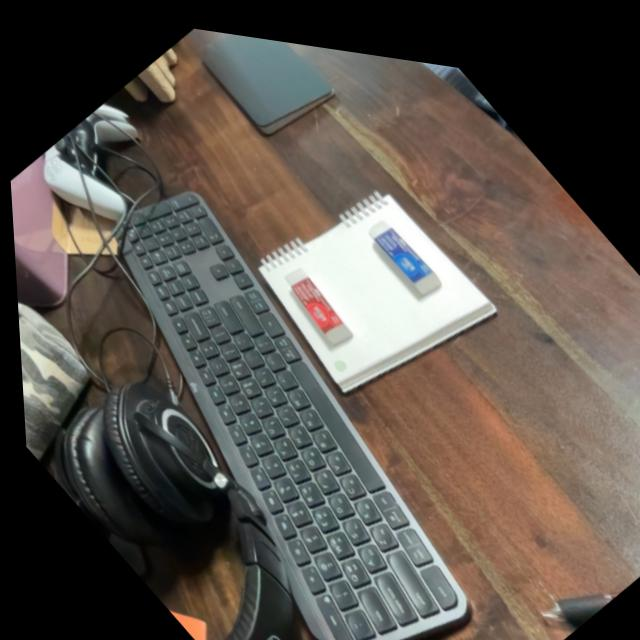blue: (358, 197, 448, 296)
red: (271, 247, 361, 345)
